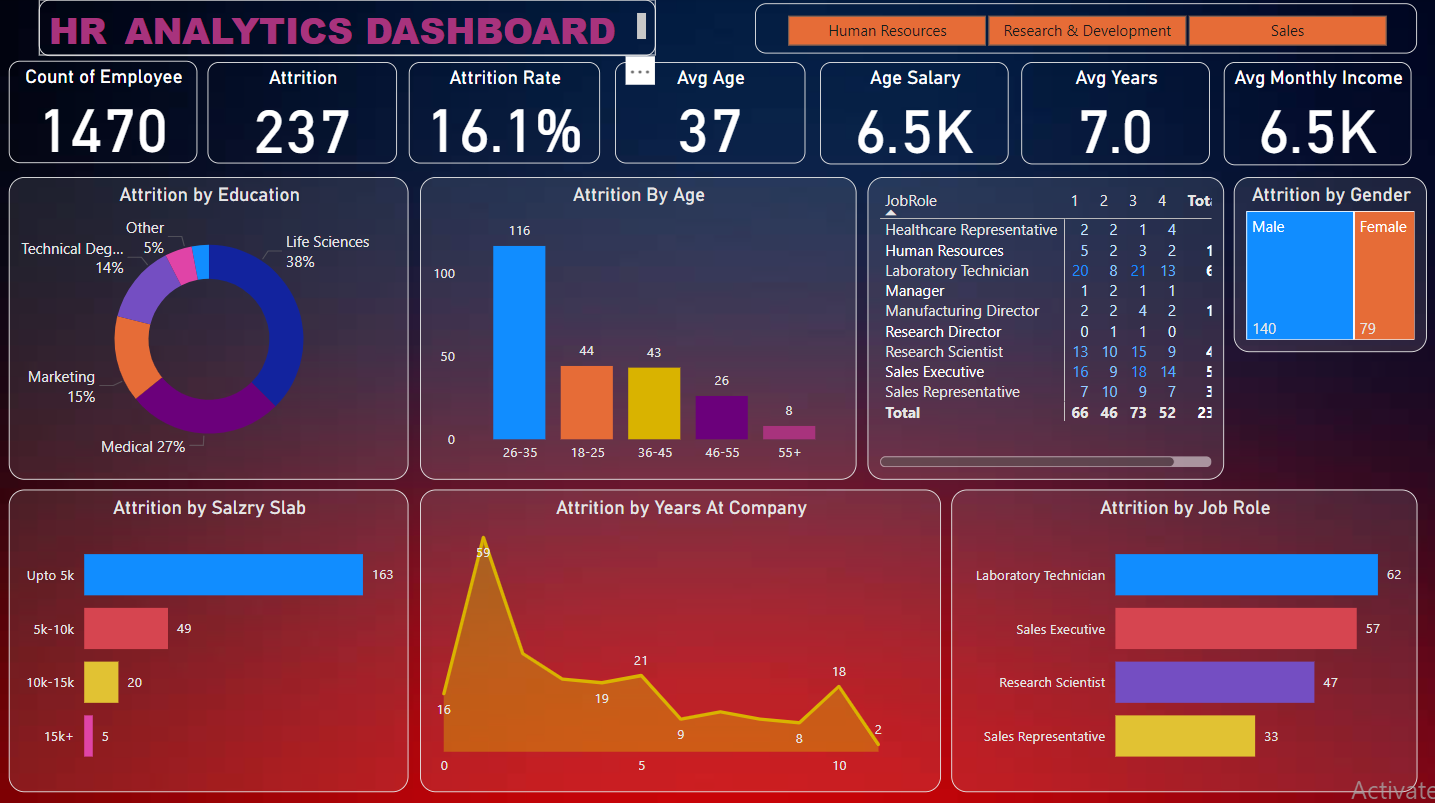

This screenshot's page, from the dashboard's own definition file:
{"tool":"powerbi","page":{"name":"Page 1","canvas":[1280,720],"ordinal":0},"visuals":[{"type":"card","title":"Count of Employee","fields":{"Values":["Count(HR_Analytics.EmpID)"]},"box":[7.8,56.8,168.1,91.3],"z":0},{"type":"card","title":"Attrition","fields":{"Values":["Sum(HR_Analytics.AttritionCount)"]},"box":[185.2,57.6,168.8,90.6],"z":1000},{"type":"card","title":"Attrition Rate","fields":{"Values":["HR_Analytics.AttritionRate"]},"box":[364,57.9,170.3,90.2],"z":2000},{"type":"card","title":"Avg Age","fields":{"Values":["Avg(HR_Analytics.Age)"]},"box":[547.7,57.9,169.2,90.2],"z":3000},{"type":"card","title":"Age Salary","fields":{"Values":["Avg(HR_Analytics.MonthlyIncome)"]},"box":[730.2,57.9,168.1,91.3],"z":4000},{"type":"card","title":"Avg Years","fields":{"Values":["Avg(HR_Analytics.YearsAtCompany)"]},"box":[909.5,57.9,168.1,91.3],"z":5000},{"type":"donutChart","title":"Attrition by Education","fields":{"Category":["HR_Analytics.EducationField"],"Y":["Sum(HR_Analytics.AttritionCount)"]},"box":[7.8,160.3,356.2,269.4],"z":6000},{"type":"columnChart","title":"Attrition By Age","fields":{"Category":["HR_Analytics.AgeGroup"],"Y":["Sum(HR_Analytics.AttritionCount)"]},"box":[374,160.3,388.5,269.4],"z":7000},{"type":"pivotTable","fields":{"Rows":["HR_Analytics.JobRole"],"Columns":["HR_Analytics.JobSatisfaction"],"Values":["Sum(HR_Analytics.AttritionCount)"]},"box":[772.5,160.3,317.3,269.4],"z":8000},{"type":"barChart","title":"Attrition by Salzry Slab","fields":{"Category":["HR_Analytics.SalarySlab"],"Y":["Sum(HR_Analytics.AttritionCount)"]},"box":[7.8,438.6,356.2,269.4],"z":9000},{"type":"barChart","title":"Attrition by Job Role","fields":{"Category":["HR_Analytics.JobRole"],"Y":["Sum(HR_Analytics.AttritionCount)"]},"box":[847.1,438.6,415.2,269.4],"z":10000},{"type":"areaChart","title":"Attrition by Years At Company","fields":{"Category":["HR_Analytics.YearsAtCompany"],"Y":["Sum(HR_Analytics.AttritionCount)"]},"box":[374,438.6,464.2,269.4],"z":11000},{"type":"treemap","title":"Attrition by Gender","fields":{"Group":["HR_Analytics.Gender"],"Values":["Sum(HR_Analytics.AttritionCount)"]},"box":[1098.8,160.5,172.1,155.8],"z":12000},{"type":"slicer","fields":{"Values":["HR_Analytics.Department"]},"box":[672.4,5.6,590,44.5],"z":13000},{"type":"textbox","box":[34.9,2.3,551.2,55.8],"z":14000},{"type":"card","title":"Avg Monthly Income","fields":{"Values":["Avg(HR_Analytics.MonthlyIncome)"]},"box":[1089.5,58.1,167.4,91.9],"z":15000}]}

Visuals, with their boxes in screenshot pixels (x1, y1, x2, y2), scaled from the page's 1280x720 canvas onto the 1435x803 screenshot:
"Count of Employee" card: <region>9, 63, 197, 165</region>
"Attrition" card: <region>208, 64, 397, 165</region>
"Attrition Rate" card: <region>408, 65, 599, 165</region>
"Avg Age" card: <region>614, 65, 804, 165</region>
"Age Salary" card: <region>819, 65, 1007, 166</region>
"Avg Years" card: <region>1020, 65, 1208, 166</region>
"Attrition by Education" donutChart: <region>9, 179, 408, 479</region>
"Attrition By Age" columnChart: <region>419, 179, 855, 479</region>
pivotTable - HR_Analytics.JobRole x HR_Analytics.JobSatisfaction: <region>866, 179, 1222, 479</region>
"Attrition by Salzry Slab" barChart: <region>9, 489, 408, 790</region>
"Attrition by Job Role" barChart: <region>950, 489, 1415, 790</region>
"Attrition by Years At Company" areaChart: <region>419, 489, 940, 790</region>
"Attrition by Gender" treemap: <region>1232, 179, 1425, 353</region>
slicer - HR_Analytics.Department: <region>754, 6, 1415, 56</region>
textbox: <region>39, 3, 657, 65</region>
"Avg Monthly Income" card: <region>1221, 65, 1409, 167</region>
